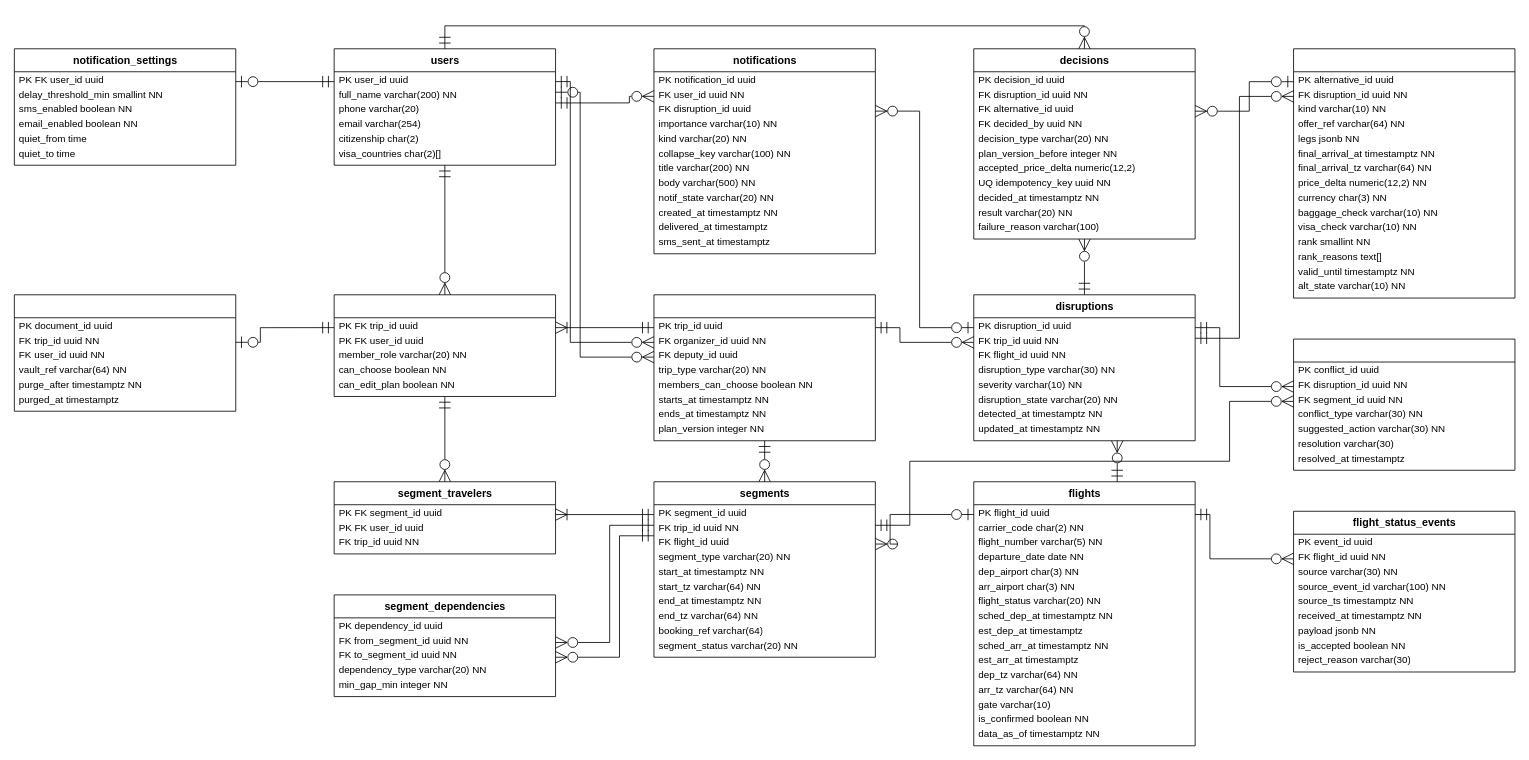
Some shapes in this 1529 by 760 pixel diagram are drawn without their labels. The shapes that lost their labels are listed below. From the top down, each one's box as (x1, y1, x2, y2) in pixels, then its label:
(1293, 48, 1515, 298): alternatives
(14, 294, 236, 411): traveler_documents
(333, 294, 556, 396): trip_members
(653, 294, 875, 441): trips
(1293, 338, 1515, 470): plan_conflicts
